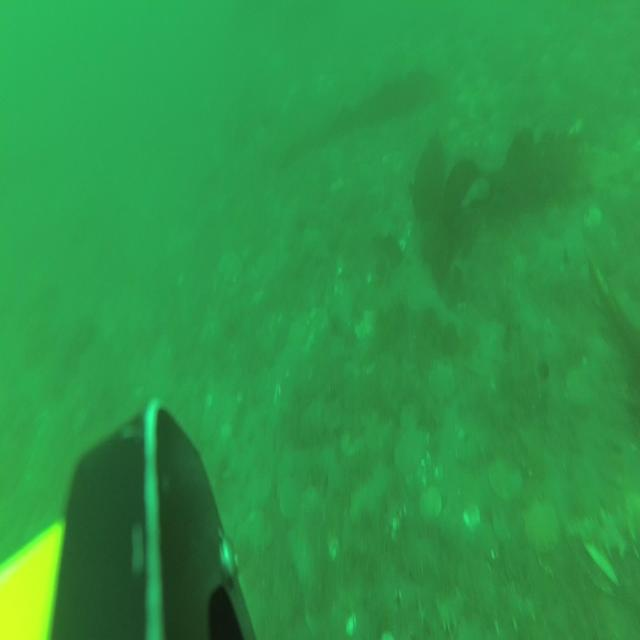holothurian: (565, 506, 640, 561), (479, 572, 536, 632), (432, 589, 466, 635)
scallop: (394, 427, 429, 479), (524, 504, 558, 556), (236, 508, 272, 555), (490, 457, 524, 499), (429, 359, 457, 406), (419, 487, 443, 528)
